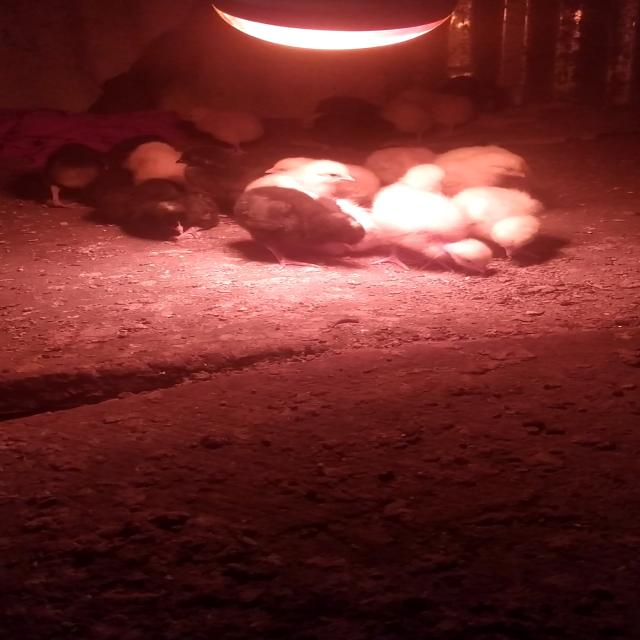chick: (233, 187, 367, 272), (370, 189, 497, 278), (460, 185, 546, 261), (116, 178, 217, 241), (435, 150, 529, 208), (262, 156, 378, 200), (178, 105, 270, 157), (241, 161, 357, 202), (42, 140, 104, 211), (310, 110, 392, 154), (380, 165, 452, 207), (121, 142, 190, 185), (442, 76, 510, 118), (382, 99, 428, 145), (426, 93, 472, 139), (319, 95, 376, 123)
objects: (209, 1, 460, 52)
